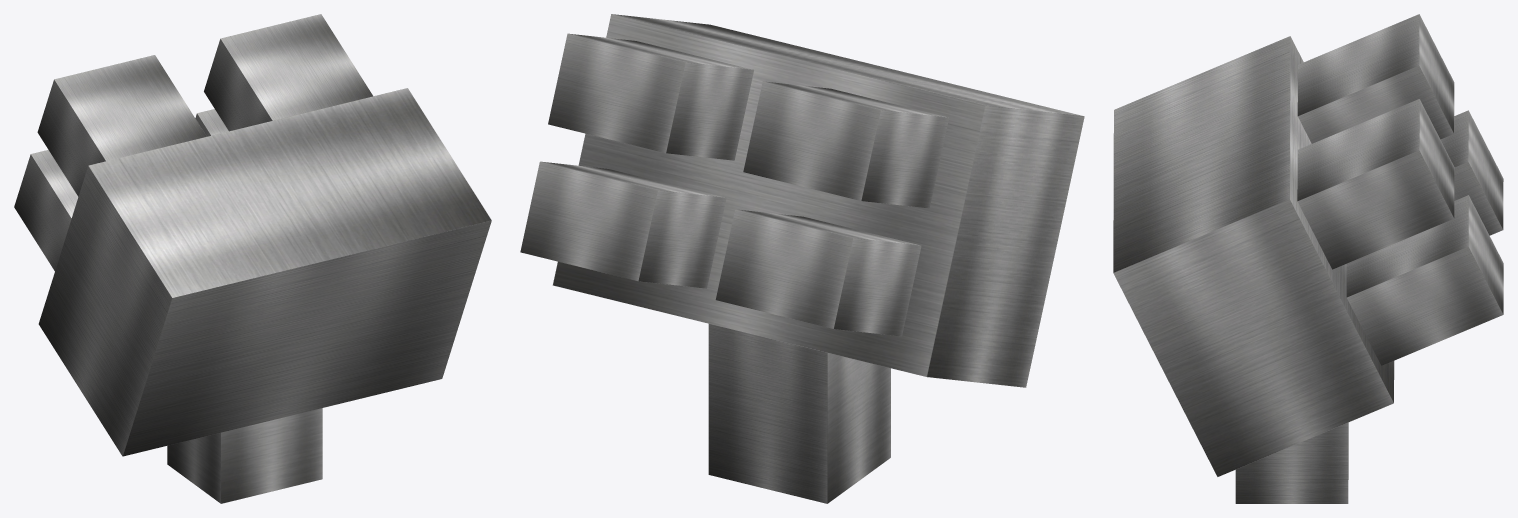
File: TurretTower.FBX
The picture shows the model from 3 angles, left to right: view 1: azimuth 30°, elevation 25°; view 2: azimuth 150°, elevation 25°; view 3: azimuth 270°, elevation 25°; orthographic projection. The views are drawn at different scales.
Parts seen in each view (by area): view 1: Box005, Box006, Box007, Box004, Box009, Box008; view 2: Box005, Box004, Box008, Box007, Box006, Box009; view 3: Box005, Box007, Box008, Box006, Box004, Box009.
Part boxes in pixels (left/top/right/bottom): Box005: left=38, top=88, right=491, bottom=456; Box006: left=37, top=55, right=206, bottom=196; Box007: left=204, top=14, right=372, bottom=131; Box004: left=167, top=408, right=322, bottom=503; Box009: left=14, top=150, right=78, bottom=270; Box008: left=195, top=109, right=228, bottom=136; Box005: left=552, top=14, right=1084, bottom=387; Box004: left=708, top=324, right=890, bottom=503; Box008: left=520, top=161, right=726, bottom=288; Box007: left=548, top=33, right=753, bottom=160; Box006: left=743, top=81, right=948, bottom=208; Box009: left=715, top=209, right=921, bottom=336; Box005: left=1113, top=36, right=1394, bottom=476; Box007: left=1297, top=99, right=1454, bottom=269; Box008: left=1346, top=195, right=1503, bottom=365; Box006: left=1297, top=14, right=1454, bottom=143; Box004: left=1235, top=422, right=1348, bottom=503; Box009: left=1440, top=110, right=1503, bottom=235.
Size of the model in its own units: 3.04 by 3.45 by 3.07.
2 materials, 2 textured.
